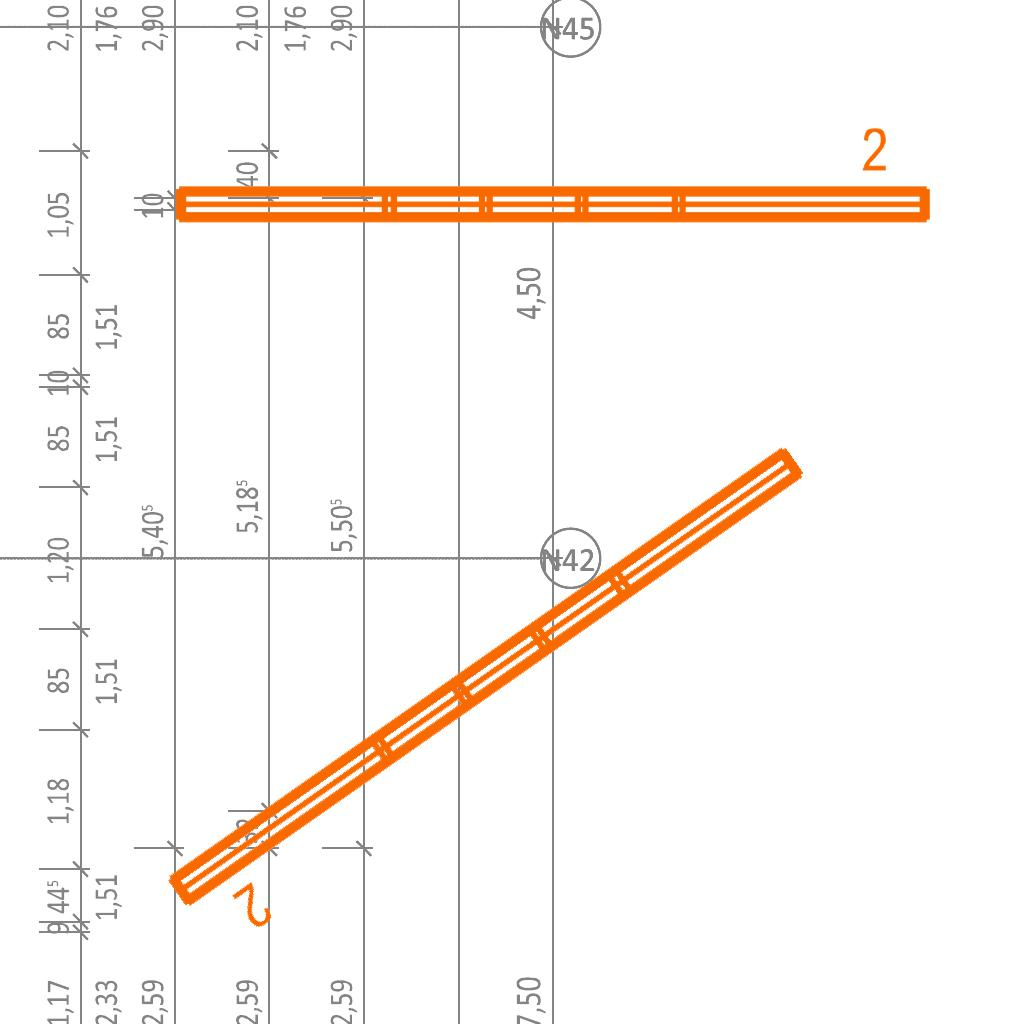Ambulanz_Pendelleuchte_LED: (151, 429, 851, 965), (165, 123, 939, 235)
